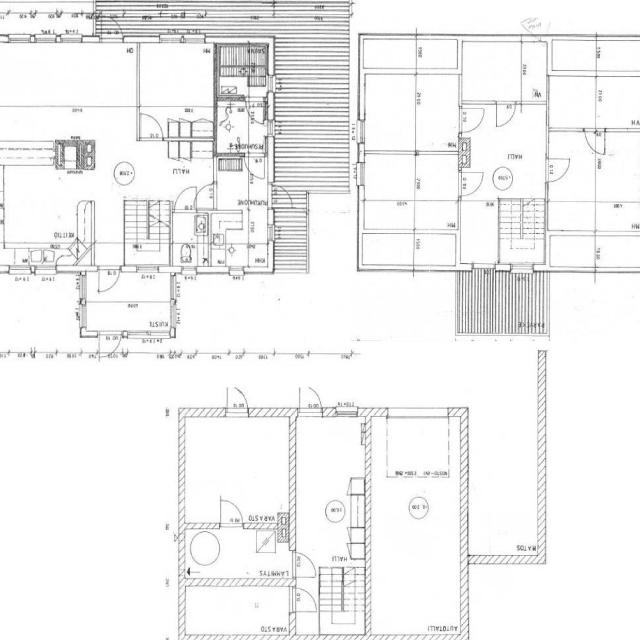door: (472, 264, 496, 299), (472, 238, 496, 273), (300, 382, 322, 417), (289, 552, 318, 578), (99, 331, 122, 363), (289, 588, 318, 612), (220, 498, 242, 529), (141, 112, 163, 142), (191, 183, 217, 208), (102, 12, 122, 44), (174, 185, 196, 213), (99, 267, 120, 296), (227, 386, 247, 416), (584, 128, 606, 155), (546, 158, 570, 182), (268, 185, 294, 207), (458, 172, 482, 195), (458, 109, 482, 132), (245, 153, 265, 179), (245, 95, 264, 122), (496, 101, 516, 125)
